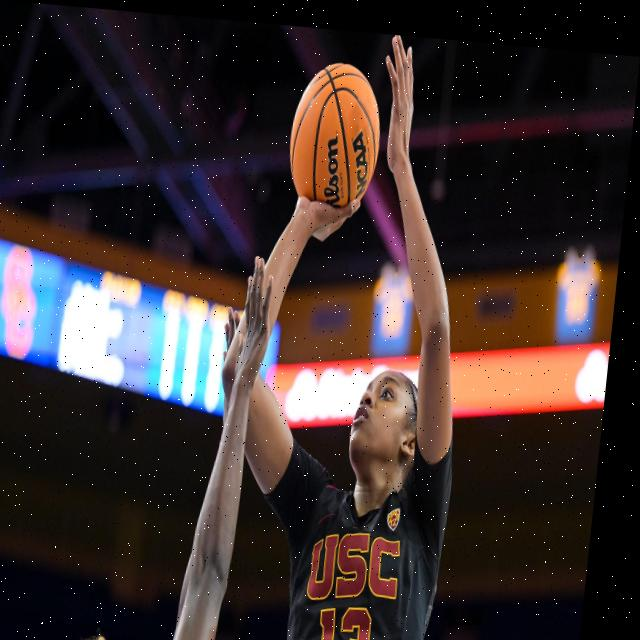basketball: (284, 60, 387, 216)
